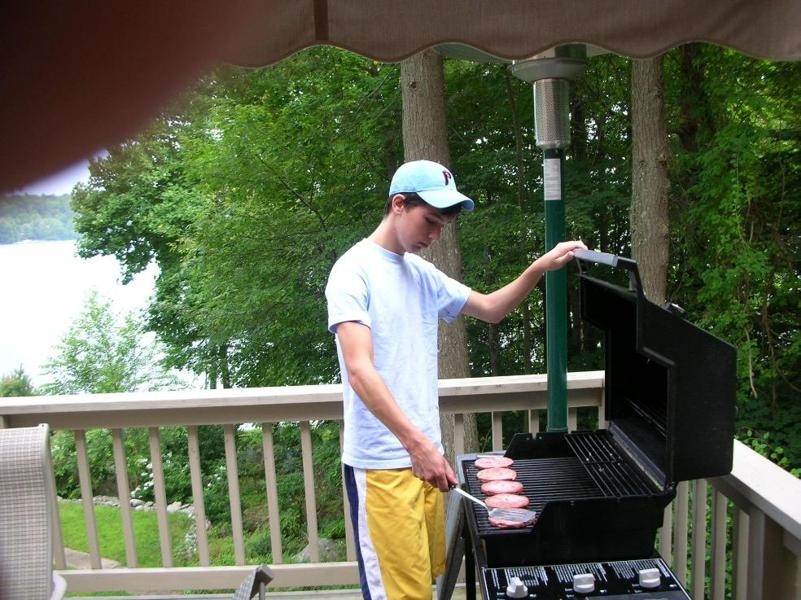person: (331, 161, 588, 600)
